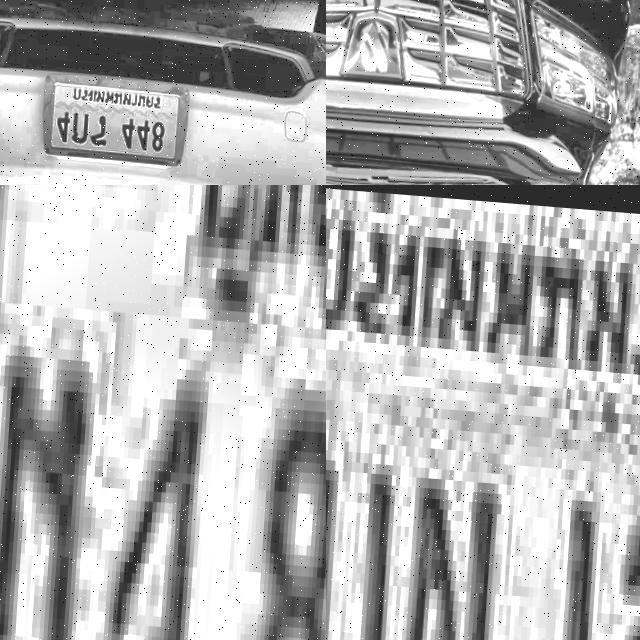license-plate: (0, 185, 326, 640), (326, 185, 640, 640), (41, 67, 193, 163)
